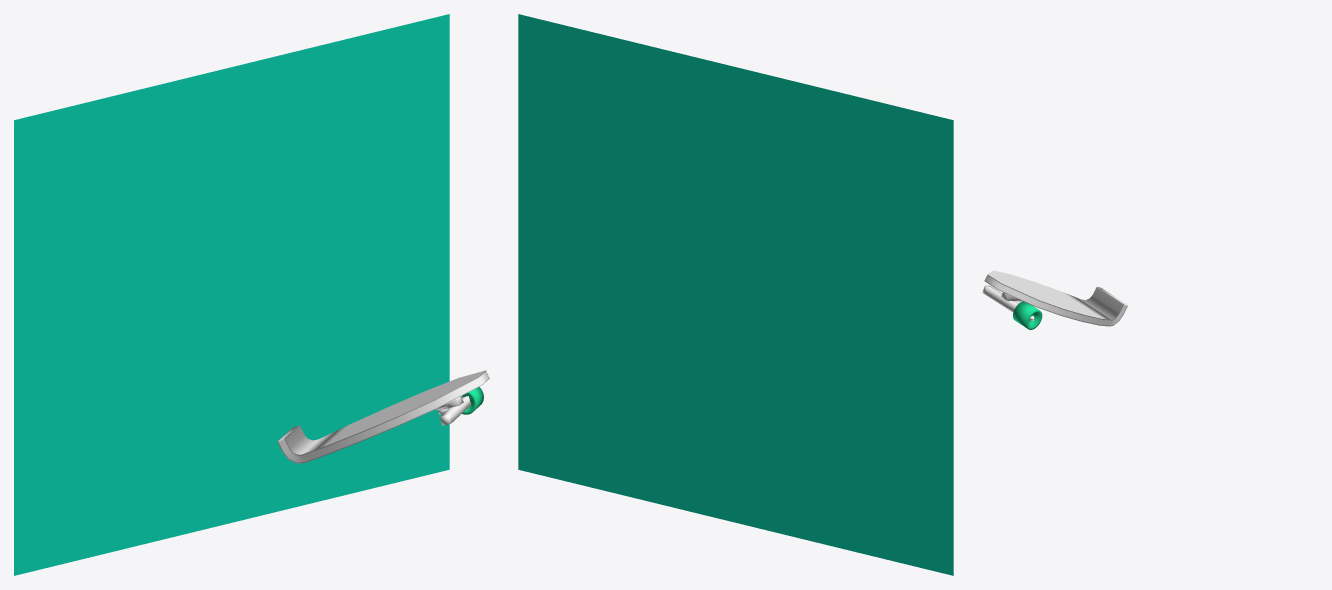
File: skateboard.glb
3 renders of one model, left to right at view 1: azimuth 30°, elevation 25°; view 2: azimuth 150°, elevation 25°; view 3: azimuth 270°, elevation 25°, orthographic. The views are drawn at different scales.
Parts seen in each view (by area): view 1: Plane.002, Plane; view 2: Plane.002; view 3: Plane, Cylinder.001.
Part boxes in pixels (x1,y1,x2,y2): Plane.002: (14,14,449,575); Plane: (277,370,489,463); Plane.002: (518,14,953,575); Plane: (984,270,1127,326); Cylinder.001: (1013,301,1042,329).
Bounding box in the file's own units: 4.71 × 4.71 × 3.74.
